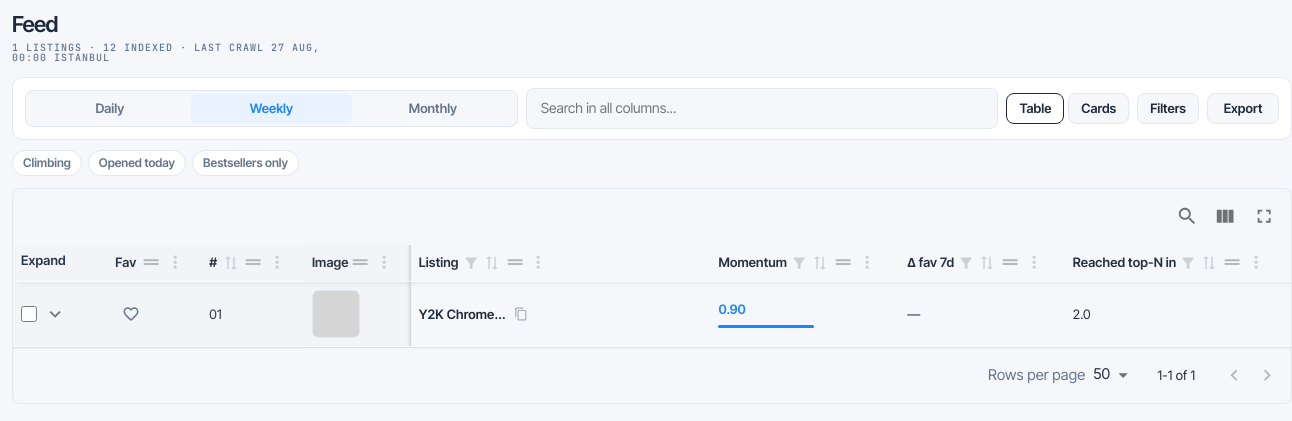
Scenario: FeedPage › favorites a listing from the feed table
Click the button named "Add to favorites" at (131, 314), box x1=115 y1=298 x2=147 y2=330
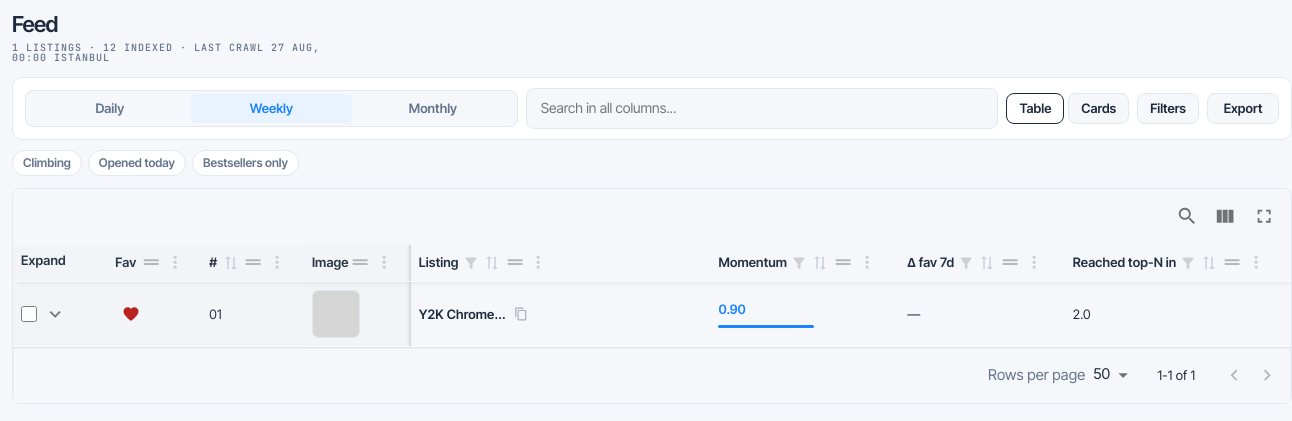
Expected: the button named "Remove from favorites" is shown, x1=115 y1=298 x2=147 y2=330
